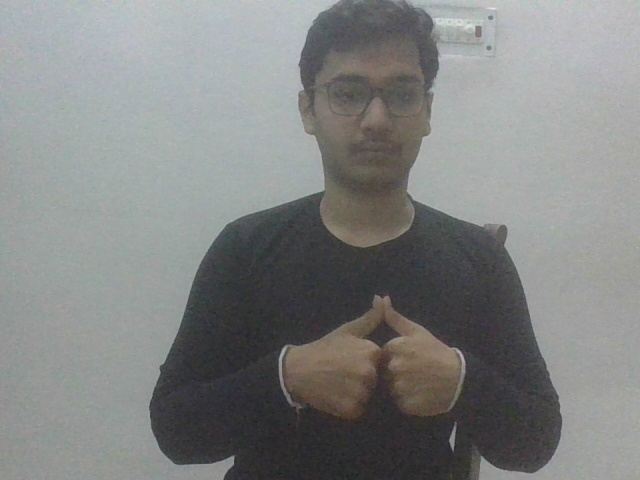A: (278, 292, 465, 424)
